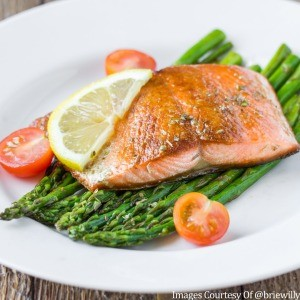salmon_brain food: (93, 64, 283, 185)
